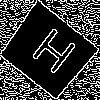H: (23, 26, 80, 84)
